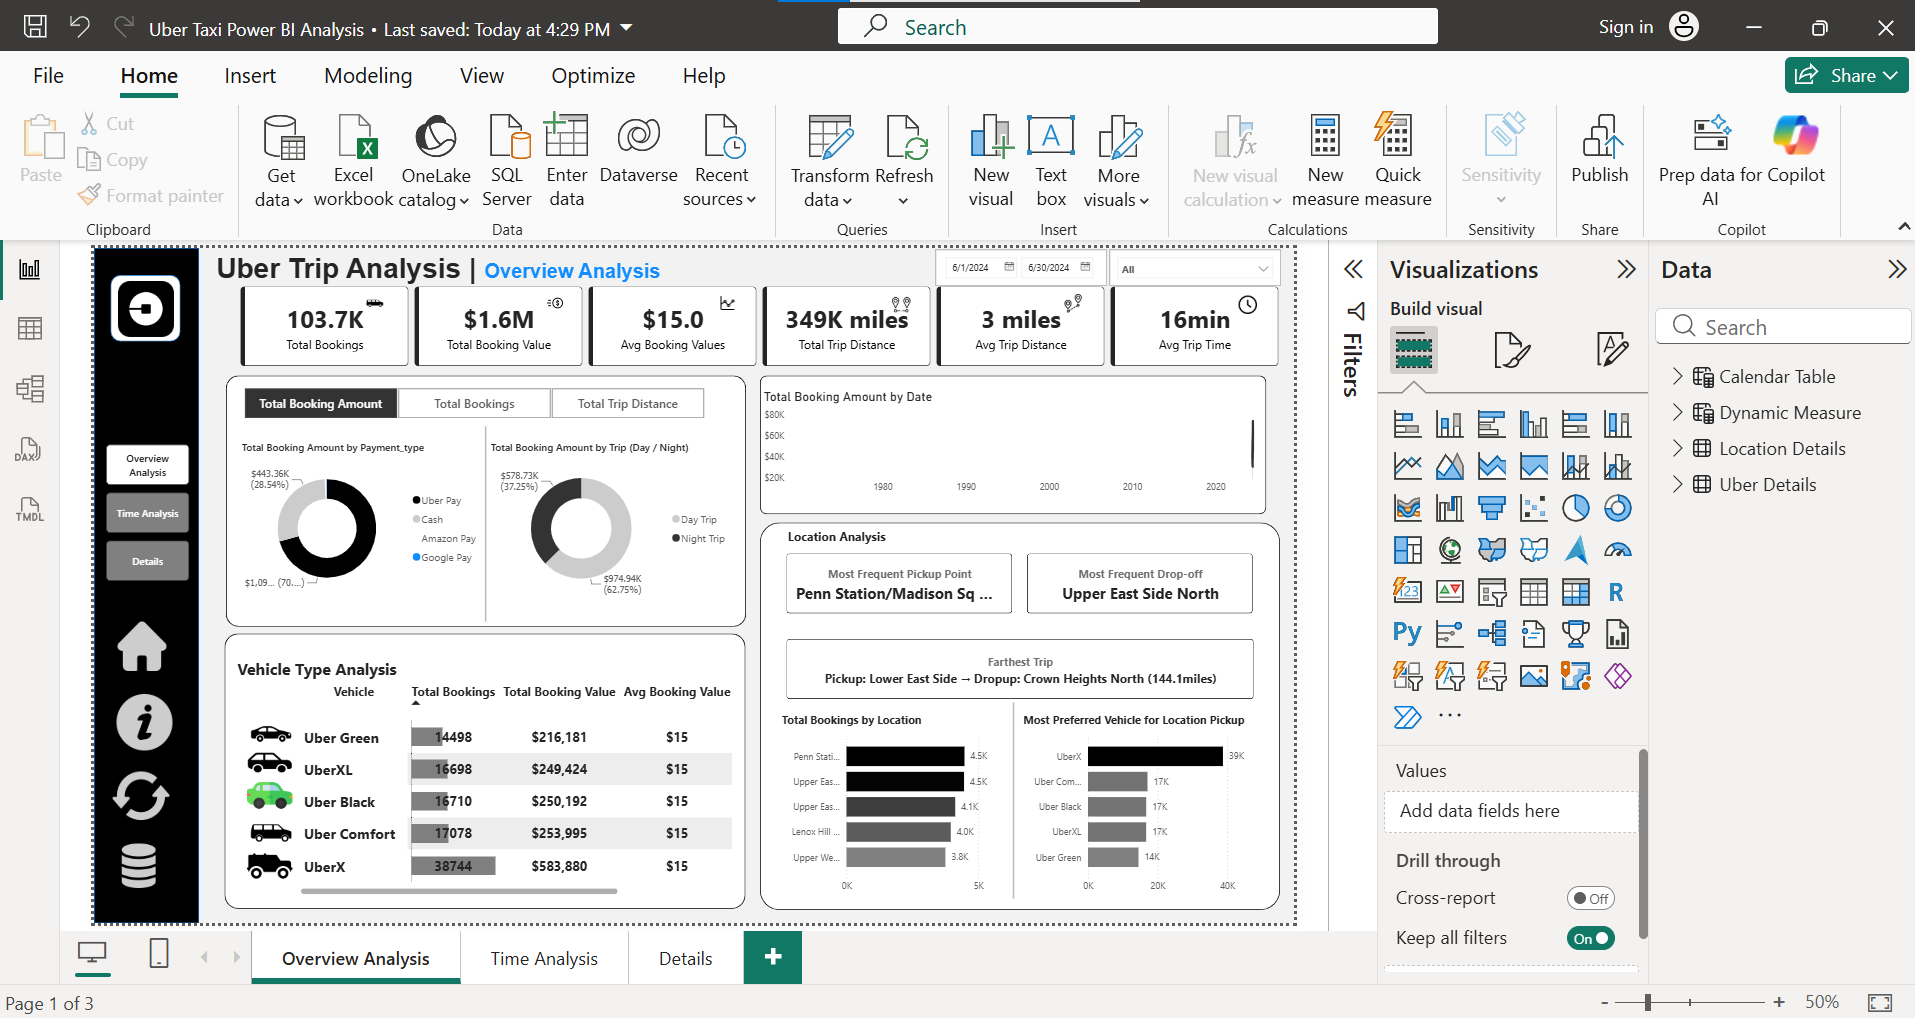

This screenshot's page, from the dashboard's own definition file:
{"tool":"powerbi","page":{"name":"Overview Analysis","canvas":[1600,900],"ordinal":0},"visuals":[{"type":"shape","box":[0,0,140,900.3],"z":0},{"type":"textbox","box":[159,0,767.3,68.8],"z":1000},{"type":"cardVisual","fields":{"Data":["Uber Details.Total Bookings","Uber Details.Total Booking Amount","Uber Details.Avg Booking Amount","Uber Details.Total Trip Distance","Uber Details.Avg Trip Distance","Uber Details.Avg Trip Time"]},"box":[178.4,34.3,1422,140.7],"z":2000},{"type":"image","box":[603.8,56.6,21.4,35.2],"z":3000},{"type":"image","box":[1063.9,58.1,24.5,35.2],"z":4000},{"type":"image","box":[1294.7,56.6,24.5,35.2],"z":5000},{"type":"image","box":[1525.5,58.1,24.5,35.2],"z":6000},{"type":"image","box":[834.6,56.6,21.4,35.2],"z":7000},{"type":"shape","box":[176.7,170,693.3,335],"z":8000},{"type":"image","box":[362.3,56.6,24.5,35.2],"z":9000},{"type":"slicer","fields":{"Values":["Dynamic Measure.Dynamic Measure"]},"box":[174.3,180.4,663.4,53.5],"z":10000},{"type":"donutChart","fields":{"Category":["Uber Details.Payment_type"],"Y":["Uber Details.Total Booking Amount"]},"box":[192.6,256.8,331.7,217.1],"z":11000},{"type":"donutChart","fields":{"Category":["Uber Details.Trip Type (Day / Night)"],"Y":["Uber Details.Total Booking Amount"]},"box":[524.3,256.8,331.7,217.1],"z":12000},{"type":"shape","box":[175,514.6,694.7,367.1],"z":13000},{"type":"pivotTable","fields":{"Rows":["Uber Details.Vehicle"],"Values":["Uber Details.Total Bookings","Uber Details.Total Booking Amount","Uber Details.Avg Booking Amount","Uber Details.Total Trip Distance Measurment"]},"box":[270.6,565.6,585.4,301.1],"z":14000},{"type":"image","box":[135.5,617.5,200.7,60],"z":15000},{"type":"image","box":[133.8,656.9,200.7,60],"z":16000},{"type":"image","box":[133.8,700,200.7,60],"z":17000},{"type":"image","box":[135.5,750,200,60],"z":18000},{"type":"image","box":[133.8,794.2,200.7,60],"z":19000},{"type":"textbox","box":[187,540.3,319,41.2],"z":20000},{"type":"shape","box":[888.3,170,675,185],"z":21000},{"type":"areaChart","fields":{"Category":["Calender Table.Date.Variation.Date Hierarchy.Day"],"Y":["Uber Details.Total Booking Amount"]},"box":[888.3,188.3,675,148.3],"z":22000},{"type":"shape","box":[888.3,365,693.3,516.7],"z":23000},{"type":"cardVisual","fields":{"Data":["Uber Details.Most Frequent Pickup Point","Uber Details.Most Frequent Drop-off"]},"box":[906.4,389.4,657.4,114.9],"z":24000},{"type":"cardVisual","fields":{"Data":["Uber Details.Farthest Trip"]},"box":[906.4,504.4,657.3,114.6],"z":25000},{"type":"barChart","fields":{"Category":["Location Details.Location"],"Y":["Uber Details.Total Bookings"]},"box":[912.5,617.5,313.9,250.4],"z":26000},{"type":"barChart","title":"Most Preferred Vehicle for Location Pickup","fields":{"Category":["Uber Details.Vehicle"],"Y":["CountNonNull(Uber Details.PULocationID)"]},"box":[1235,617.5,313.9,250.4],"z":27000},{"type":"shape","box":[508.3,238.3,28.3,260],"z":28000},{"type":"shape","box":[1216.7,605,20,261.7],"z":29000},{"type":"textbox","box":[920,368,274.4,34],"z":30000},{"type":"slicer","fields":{"Values":["Calendar Table.Date"]},"box":[1121.7,1.7,228.3,48.3],"z":31000},{"type":"slicer","fields":{"Values":["Location Details.City"]},"box":[1353.3,1,228.3,48.3],"z":32000},{"type":"shape","box":[22.9,35.2,93.2,88.7],"z":33000,"group":"g1"},{"type":"pageNavigator","box":[15.3,261.4,111.6,185],"z":33000},{"type":"group","id":"g1","title":"Group 1","box":[22.9,35.2,93.2,88.7],"z":34000},{"type":"image","box":[32.1,42.8,74.9,74.9],"z":34000,"group":"g1"},{"type":"image","box":[22.9,498.3,84.1,65.7],"z":35000},{"type":"image","box":[29,588.5,74.9,88.7],"z":36000},{"type":"image","box":[15.3,692.4,93.2,76.4],"z":37000},{"type":"image","box":[16.8,794.8,87.1,59.6],"z":38000}]}

Visuals, with their boxes on the page's 1600x900 design canvas (x1, y1, x2, y2). These are canvas units, not pixel positions in the 1915x1018 screenshot, which may show the page scaled, cropped or inside an application window:
shape: 0, 0, 140, 900
textbox: 159, 0, 926, 69
cardVisual - Uber Details.Total Bookings x Uber Details.Total Booking Amount: 178, 34, 1600, 175
image: 604, 57, 625, 92
image: 1064, 58, 1088, 93
image: 1295, 57, 1319, 92
image: 1526, 58, 1550, 93
image: 835, 57, 856, 92
shape: 177, 170, 870, 505
image: 362, 57, 387, 92
slicer - Dynamic Measure.Dynamic Measure: 174, 180, 838, 234
donutChart - Uber Details.Payment_type x Uber Details.Total Booking Amount: 193, 257, 524, 474
donutChart - Uber Details.Trip Type (Day / Night) x Uber Details.Total Booking Amount: 524, 257, 856, 474
shape: 175, 515, 870, 882
pivotTable - Uber Details.Vehicle x Uber Details.Total Bookings: 271, 566, 856, 867
image: 136, 618, 336, 678
image: 134, 657, 334, 717
image: 134, 700, 334, 760
image: 136, 750, 336, 810
image: 134, 794, 334, 854
textbox: 187, 540, 506, 582
shape: 888, 170, 1563, 355
areaChart - Calender Table.Date.Variation.Date Hierarchy.Day x Uber Details.Total Booking Amount: 888, 188, 1563, 337
shape: 888, 365, 1582, 882
cardVisual - Uber Details.Most Frequent Pickup Point x Uber Details.Most Frequent Drop-off: 906, 389, 1564, 504
cardVisual - Uber Details.Farthest Trip: 906, 504, 1564, 619
barChart - Location Details.Location x Uber Details.Total Bookings: 912, 618, 1226, 868
"Most Preferred Vehicle for Location Pickup" barChart: 1235, 618, 1549, 868
shape: 508, 238, 537, 498
shape: 1217, 605, 1237, 867
textbox: 920, 368, 1194, 402
slicer - Calendar Table.Date: 1122, 2, 1350, 50
slicer - Location Details.City: 1353, 1, 1582, 49
shape: 23, 35, 116, 124
pageNavigator: 15, 261, 127, 446
"Group 1" group: 23, 35, 116, 124
image: 32, 43, 107, 118
image: 23, 498, 107, 564
image: 29, 588, 104, 677
image: 15, 692, 108, 769
image: 17, 795, 104, 854
